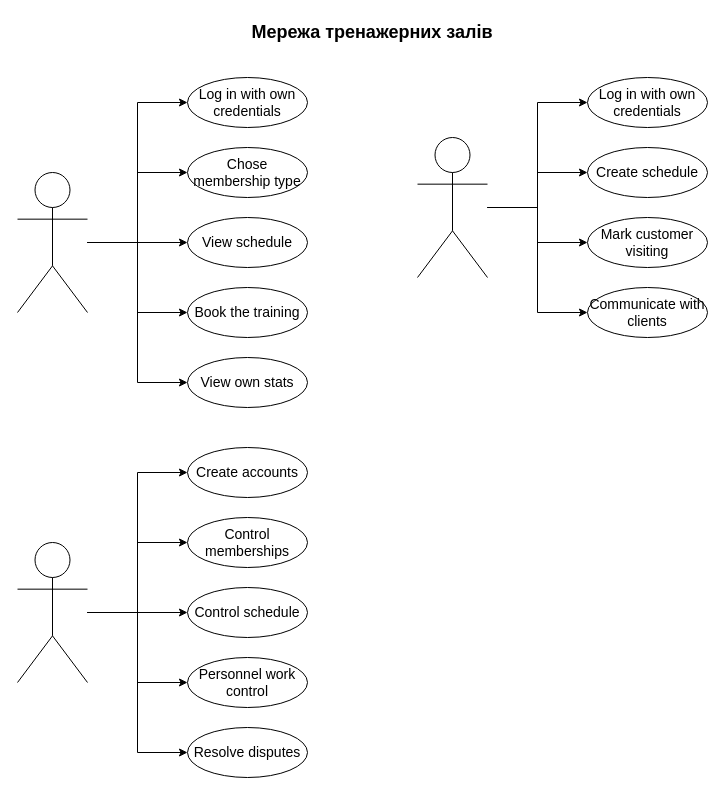
This 725x795 diagram has some shape labels left out. Here are the shapes that lost their labels. From the top down, the centre of each, then its label:
At point (452, 207): "Coach".
At point (52, 242): "Customer".
At point (52, 612): "Manager".
